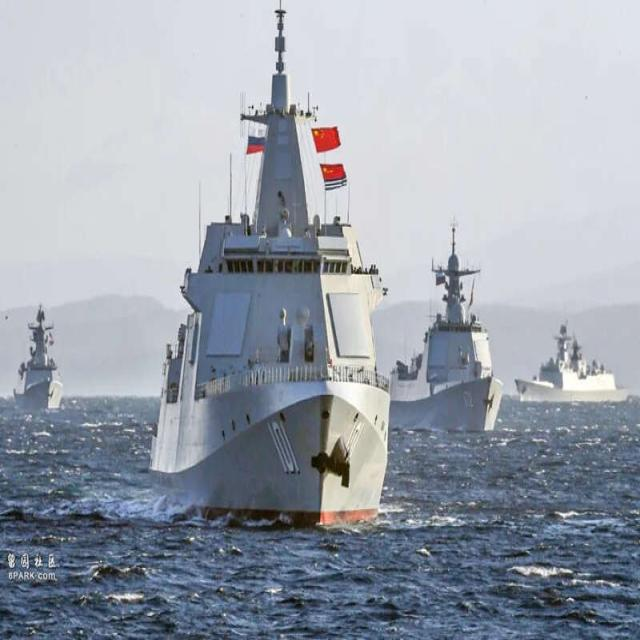navalvessels: (147, 7, 392, 541), (382, 202, 497, 436), (513, 298, 629, 416), (19, 314, 65, 426)
